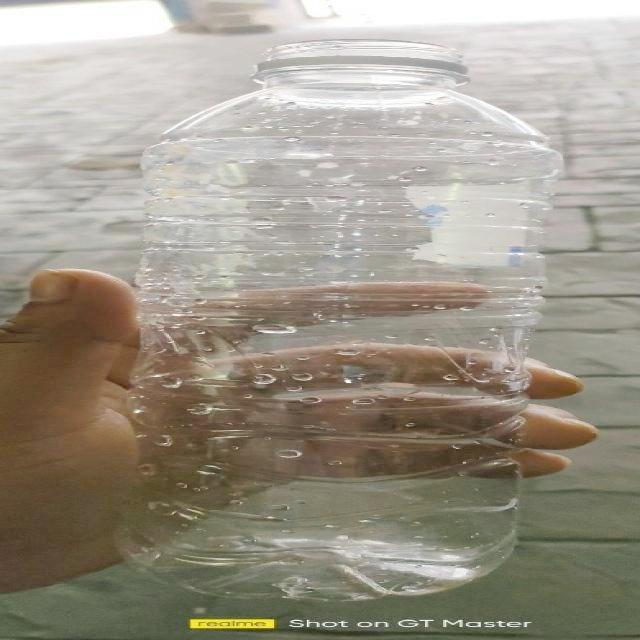bottle: (122, 38, 562, 600)
